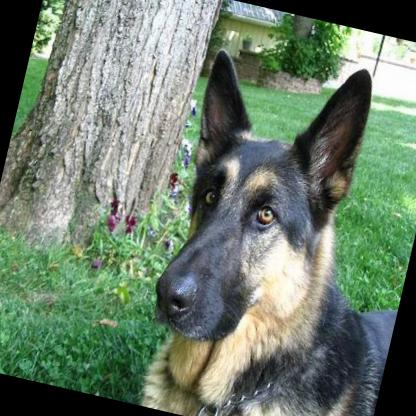German_shepherd: (124, 30, 416, 416)
